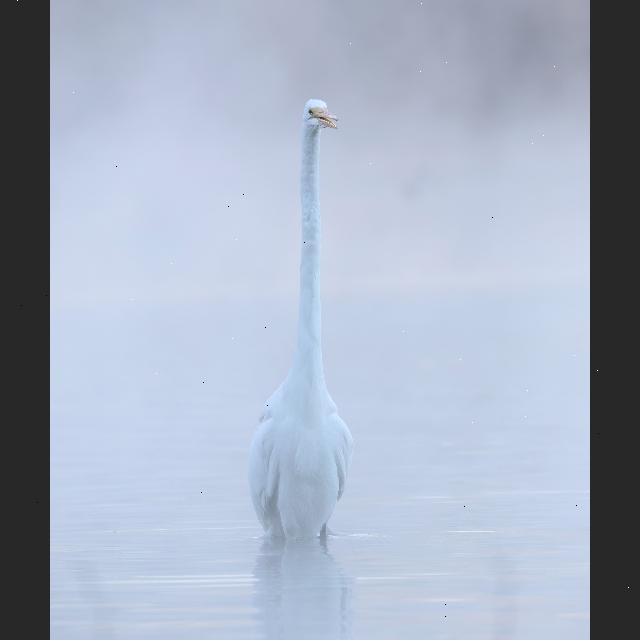egret: (222, 91, 356, 553)
